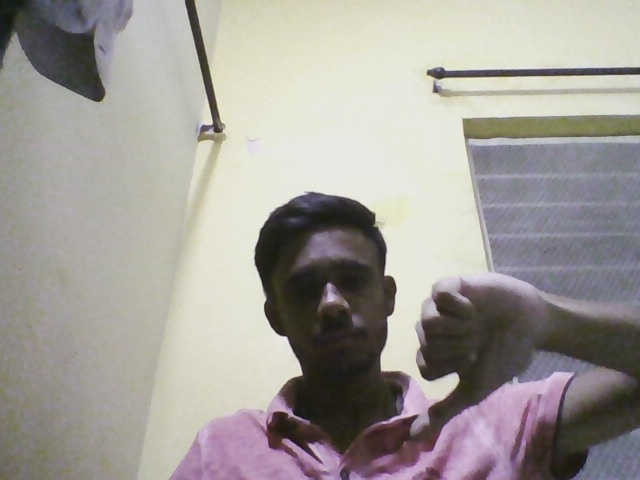no: (407, 267, 559, 442)
